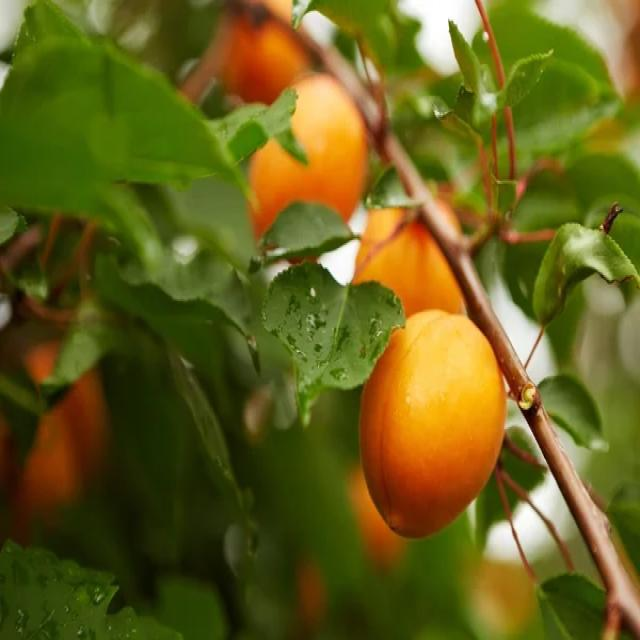kayisi: (380, 309, 501, 537)
kayisi-yapragi: (12, 7, 399, 425)
